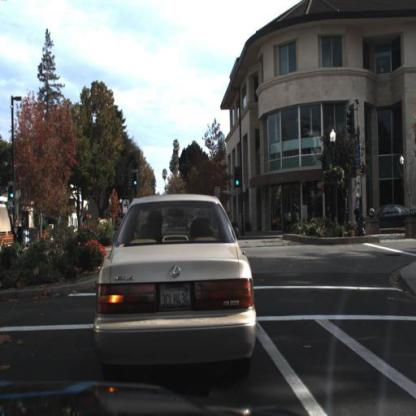car: (90, 189, 261, 384), (366, 201, 416, 234)
pedestrian: (355, 197, 362, 227), (14, 220, 20, 243)
trafficLight: (232, 165, 242, 192), (130, 171, 138, 189)
trafficLight-Green: (7, 182, 15, 201)
